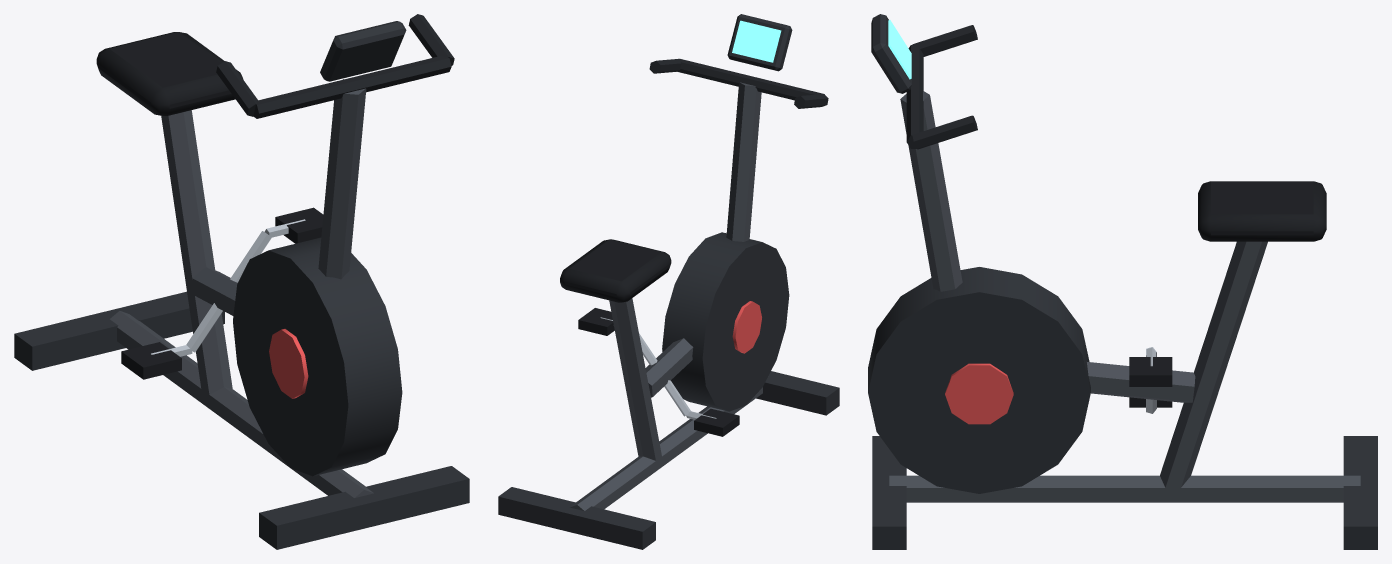
Rendered from exercise_bike.glb.
3 views of the same model, side by side, from view 1: azimuth 30°, elevation 25°; view 2: azimuth 150°, elevation 25°; view 3: azimuth 270°, elevation 25° (orthographic). The views are drawn at different scales.
Visible parts, largest first — view 1: exercise_bike; view 2: exercise_bike; view 3: exercise_bike.
Boxes of the visible parts, <box> form: exercise_bike: <box>14,14,469,549</box>; exercise_bike: <box>498,14,839,549</box>; exercise_bike: <box>868,14,1377,549</box>.
Size of the model in its own units: 0.5346 by 1.23 by 1.19.
